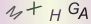A: (77, 7, 89, 21)
G: (68, 1, 80, 15)
H: (49, 8, 62, 22)
M: (6, 5, 23, 20)
X: (26, 1, 42, 17)
